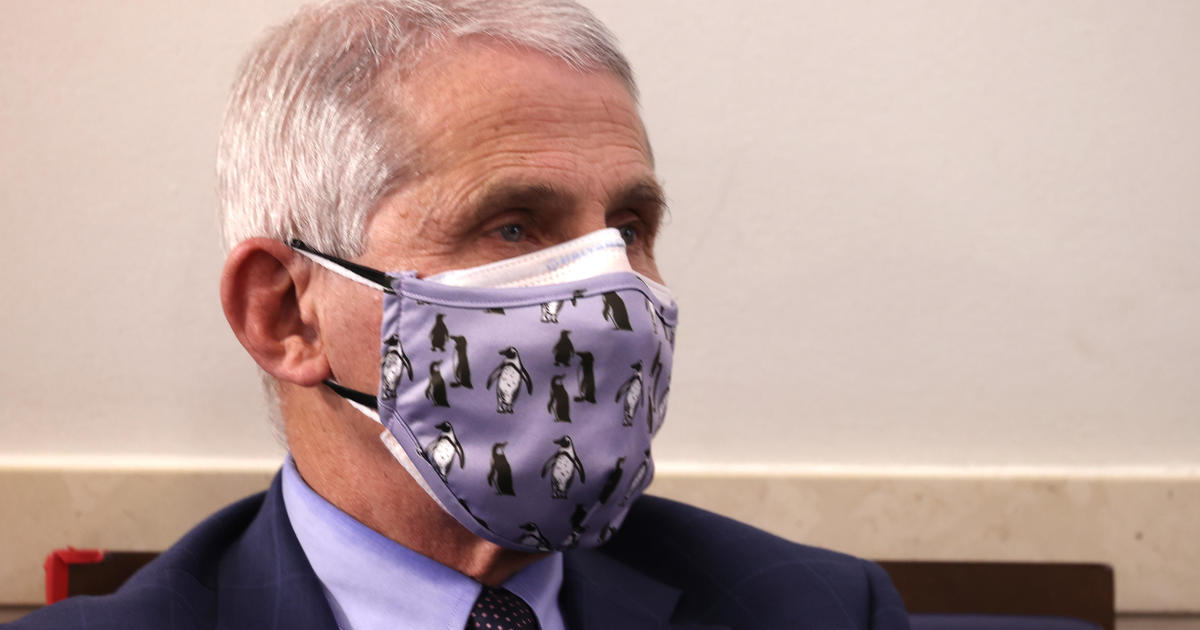with_mask: (330, 47, 669, 548)
